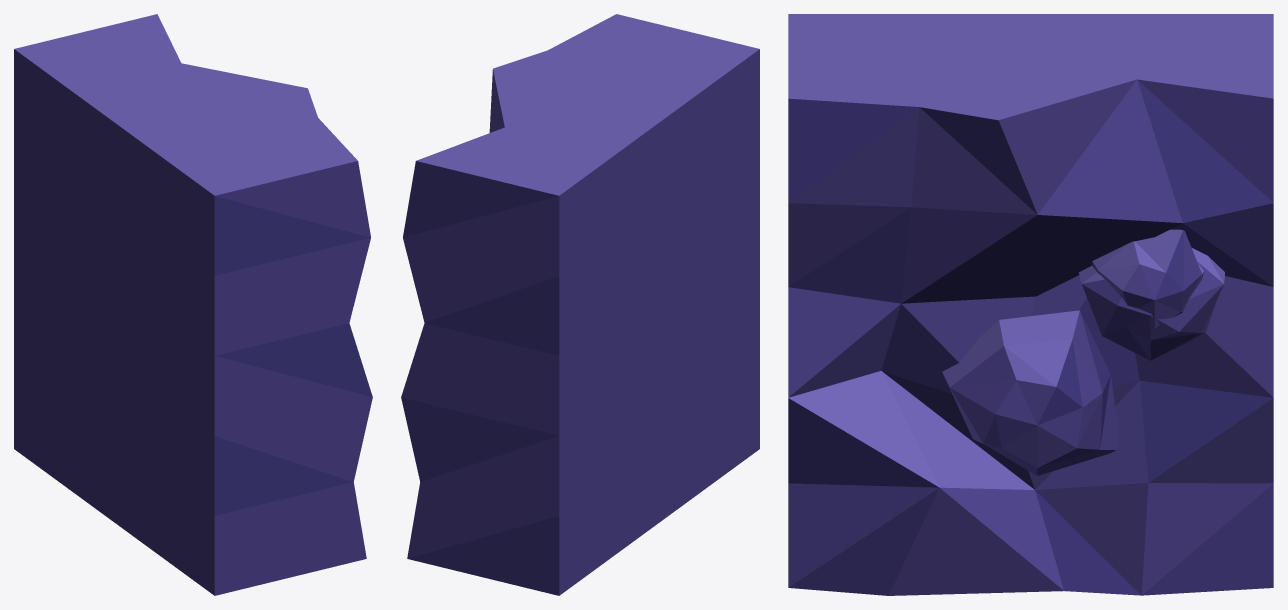
File: Mine_Wall_Rock_B.obj
3 views of the same model, side by side, from view 1: azimuth 30°, elevation 25°; view 2: azimuth 150°, elevation 25°; view 3: azimuth 270°, elevation 25° (orthographic). The views are drawn at different scales.
Visible parts, largest first — view 1: Mine_Wall_Rock_B; view 2: Mine_Wall_Rock_B; view 3: Mine_Wall_Rock_B.
Part boxes in pixels (x1,y1,x2,y2): Mine_Wall_Rock_B: [14, 14, 372, 595]; Mine_Wall_Rock_B: [401, 14, 759, 595]; Mine_Wall_Rock_B: [788, 14, 1273, 595].
Bounding box in the file's own units: 2.14 × 4.4 × 4.
